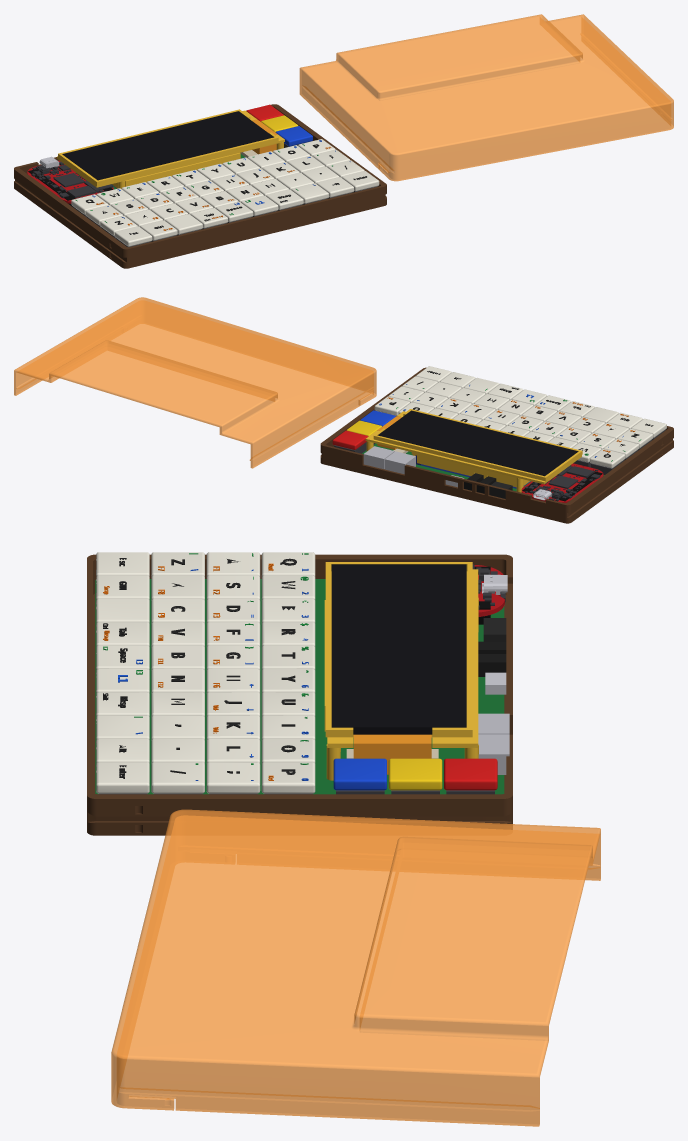
The model's file is beside_walnut.glb.
The picture shows the model from 3 angles, top to bottom: view 1: azimuth 30°, elevation 25°; view 2: azimuth 150°, elevation 25°; view 3: azimuth 270°, elevation 25°; orthographic projection. The views are drawn at different scales.
Parts seen in each view (by area): view 1: Lid, Internals, Tray; view 2: Lid, Internals, Tray; view 3: Lid, Internals, Tray.
Boxes of the visible parts, left/top/right/bottom form: Lid: left=299, top=14, right=673, bottom=181; Internals: left=27, top=104, right=379, bottom=247; Tray: left=14, top=104, right=386, bottom=268; Lid: left=14, top=297, right=376, bottom=468; Internals: left=332, top=366, right=666, bottom=502; Tray: left=320, top=367, right=673, bottom=523; Lid: left=111, top=809, right=600, bottom=1126; Internals: left=95, top=552, right=509, bottom=794; Tray: left=87, top=554, right=512, bottom=835.
Bounding box in the file's own units: 0.3903 × 0.0227 × 0.1583.
